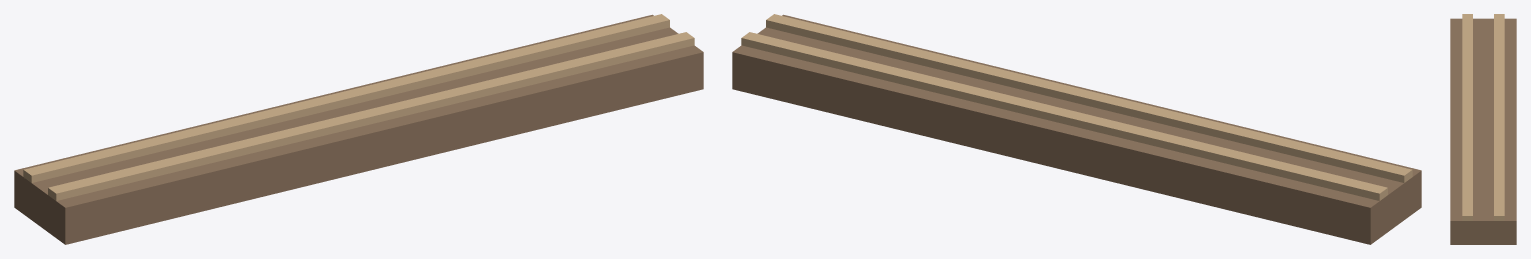
The model's file is feudal-japan-castle-town-threshold-beam-aa559d14__26355.glb.
3 views of the same model, side by side, from view 1: azimuth 30°, elevation 25°; view 2: azimuth 150°, elevation 25°; view 3: azimuth 270°, elevation 25° (orthographic). The views are drawn at different scales.
Parts seen in each view (by area): view 1: threshold-beam; view 2: threshold-beam; view 3: threshold-beam.
Part boxes in pixels (box(x1,y1,x2,y2)): threshold-beam: box(14, 14, 703, 244); threshold-beam: box(732, 14, 1421, 244); threshold-beam: box(1450, 14, 1516, 244).
Bounding box in the file's own units: 1.8 × 0.12 × 0.2501.
